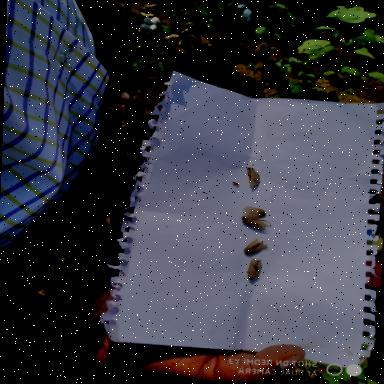abw: (238, 214, 272, 232), (242, 237, 272, 256), (244, 256, 264, 280), (244, 166, 262, 188), (241, 206, 267, 216)
